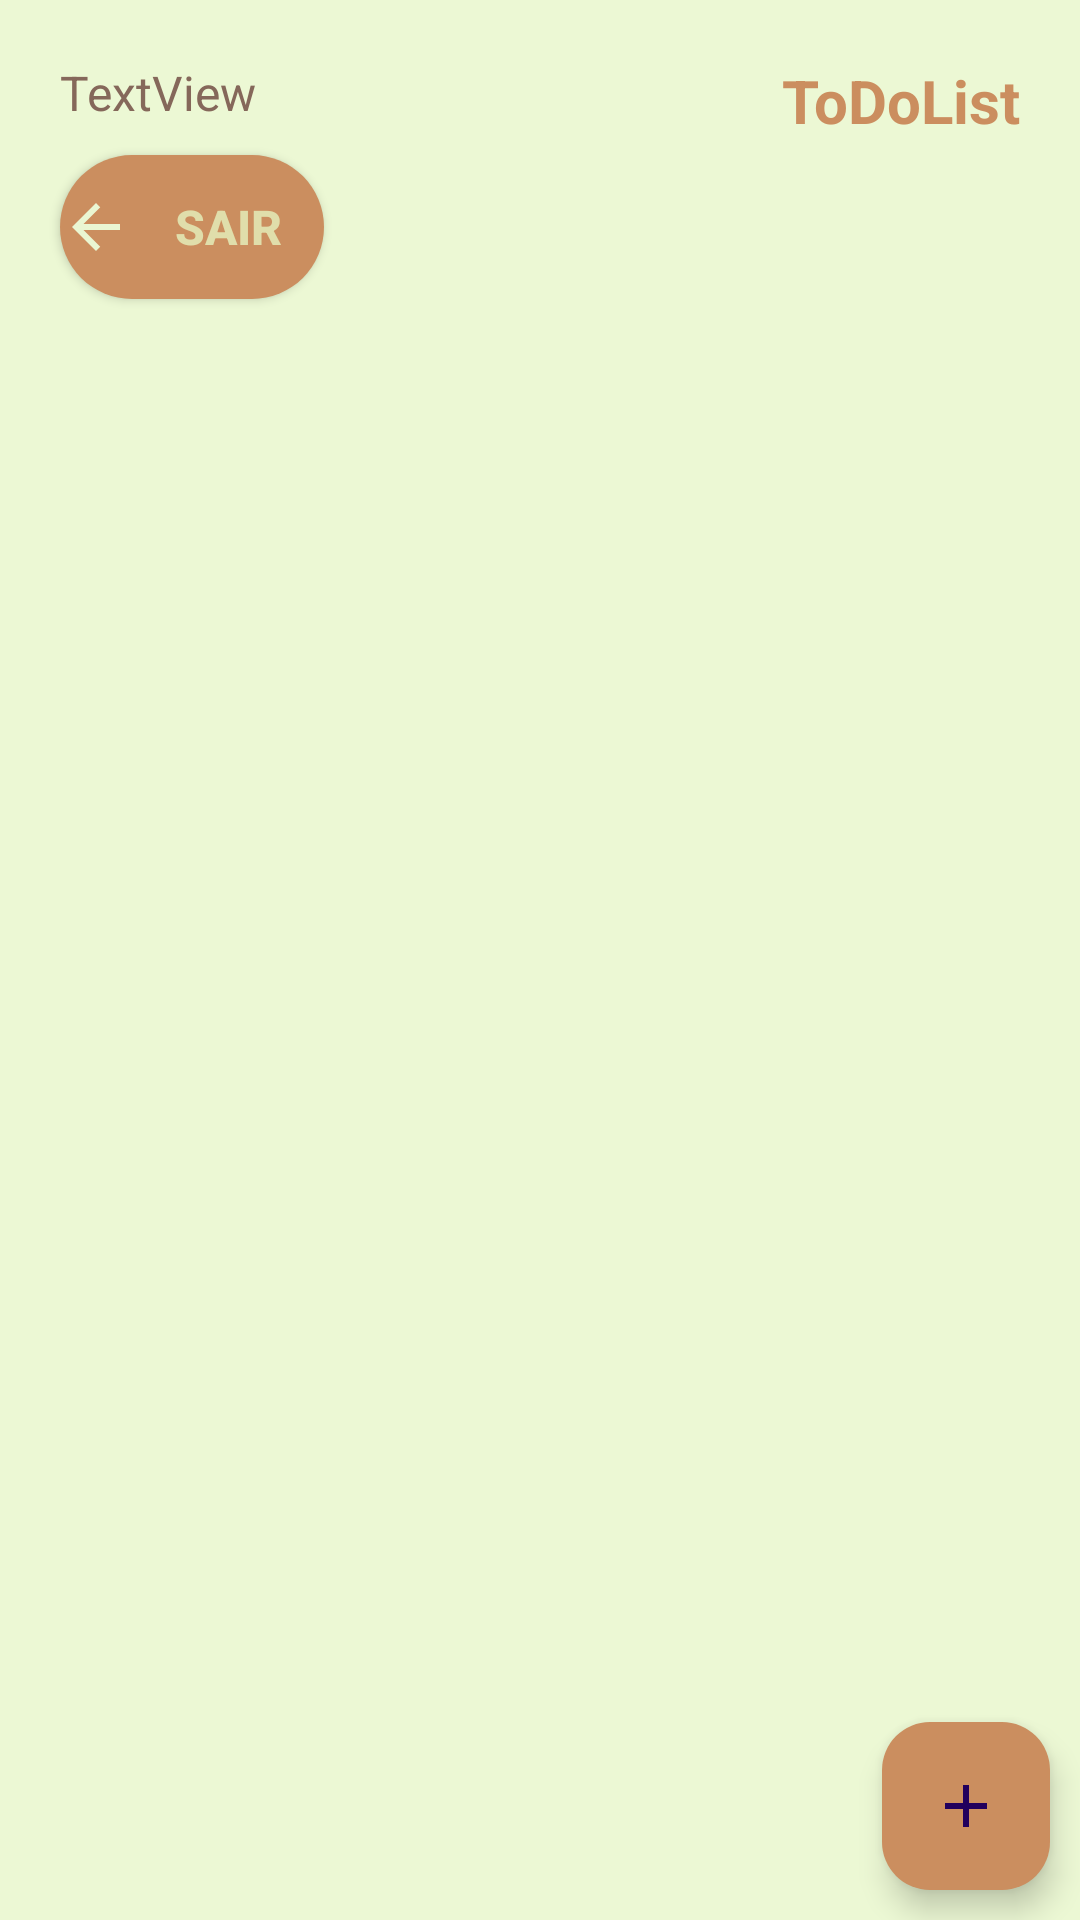

Icons on this 1080px x 1920px Android screen, each with the point to tap as (x,y):
botão para adicionar: (966,1806)
